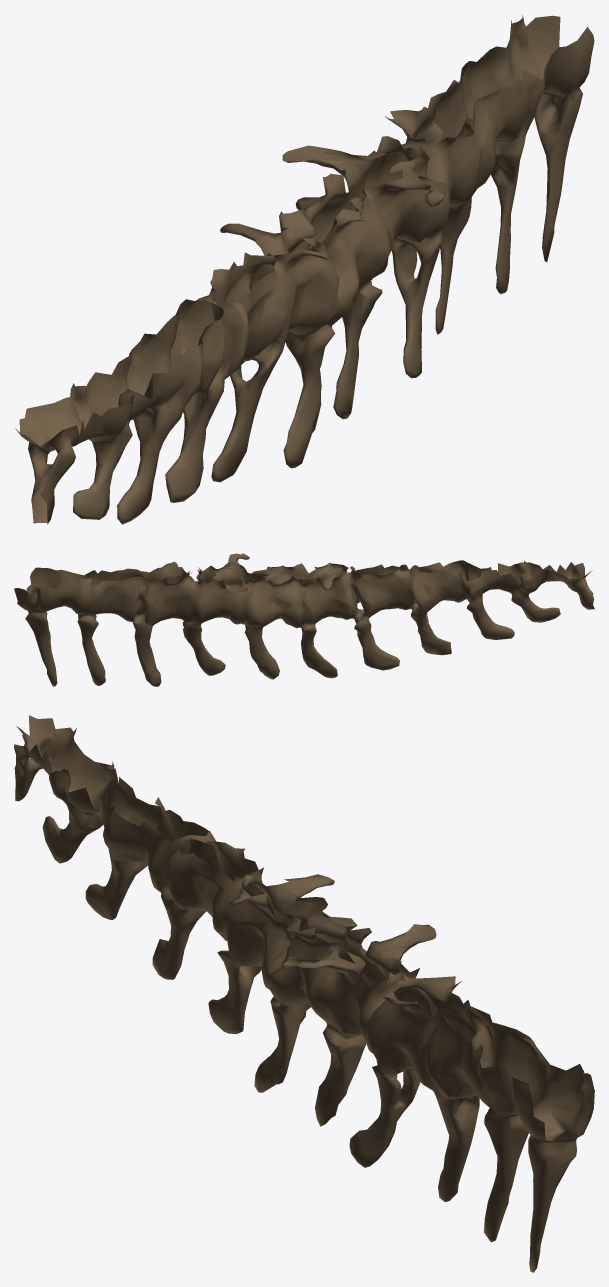
The model's file is Trex_Pelvis.fbx.
3 renders of one model, top to bottom at view 1: azimuth 30°, elevation 25°; view 2: azimuth 150°, elevation 25°; view 3: azimuth 270°, elevation 25°, orthographic. The views are drawn at different scales.
Parts seen in each view (by area): view 1: Trex_Pelvis; view 2: Trex_Pelvis; view 3: Trex_Pelvis.
Boxes of the visible parts, bbox=[...] form: Trex_Pelvis: bbox=[15, 15, 594, 524]; Trex_Pelvis: bbox=[14, 553, 594, 686]; Trex_Pelvis: bbox=[14, 715, 594, 1272].
Size of the model in its own units: 0.2795 by 0.0719 by 0.1831.
Materials: 1 (1 with a texture image).
